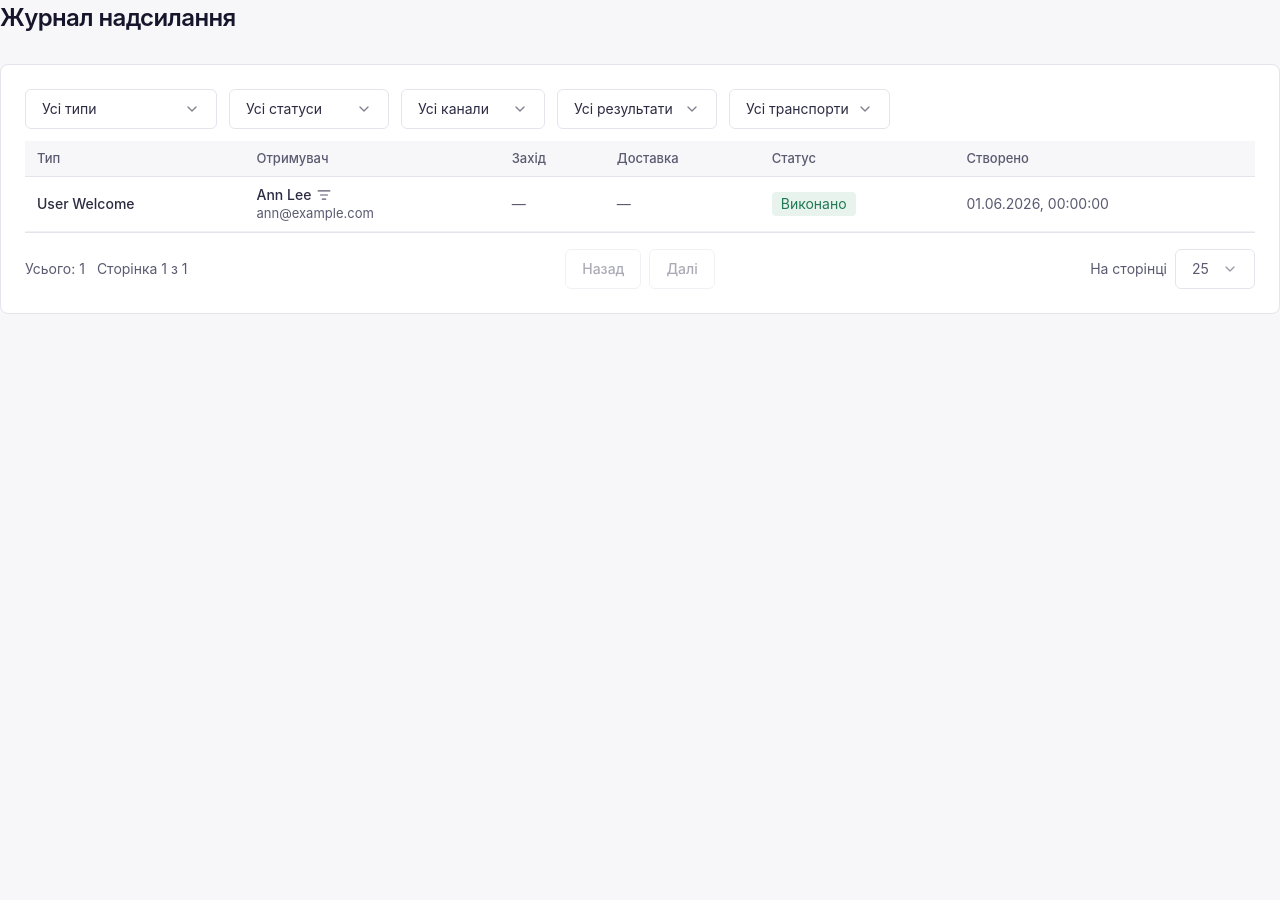
it: LogsTab recipient and error lines › humanizes the raw gomail 530 error from the backend (smtp_auth / 530)
This screenshot has width=1280, height=900.
Click the text "Ann Lee": (640, 204) [25, 176, 1255, 231]
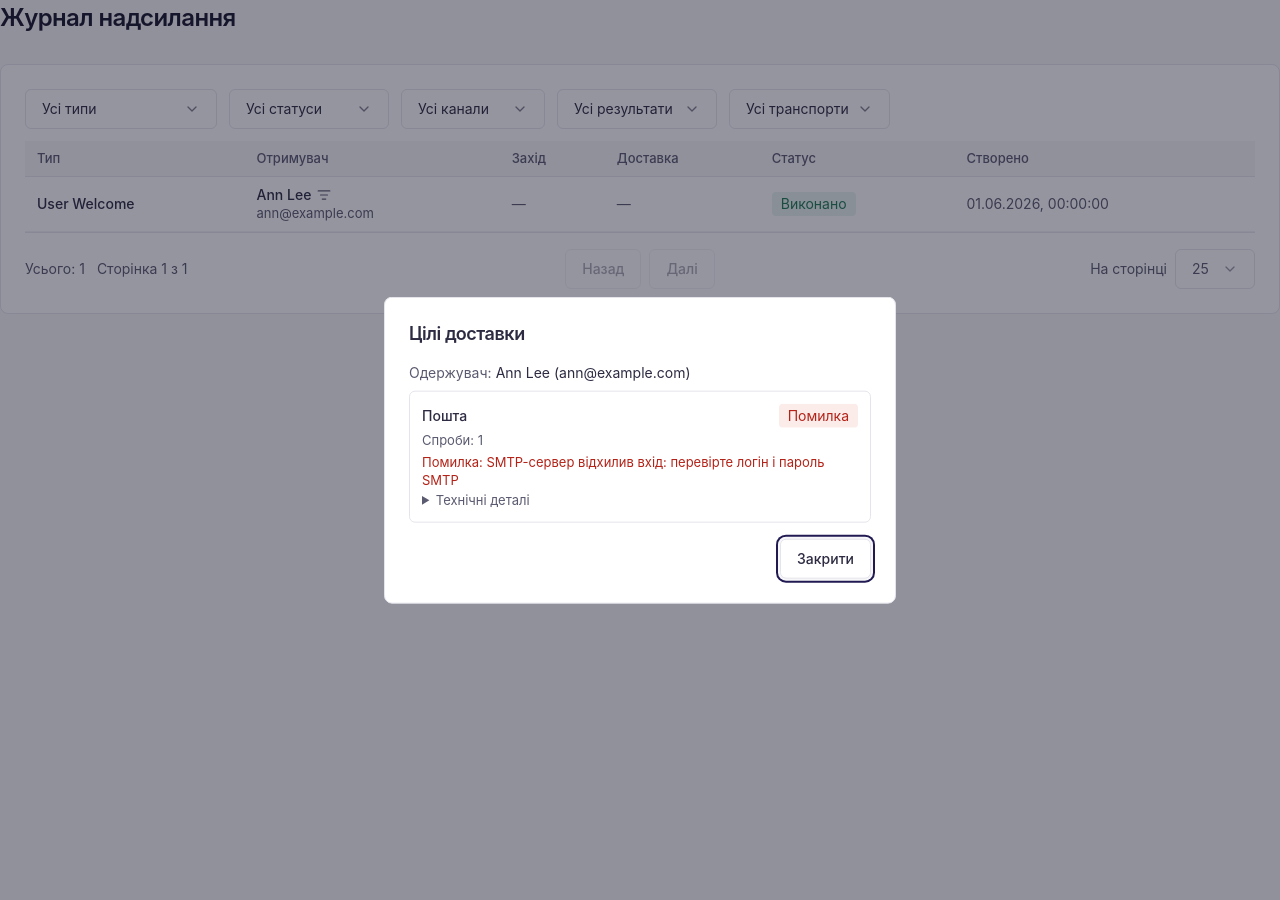
Check: the text "SMTP-сервер відхилив вхід: перевірте логін і пароль SMTP" is shown, box [422, 453, 824, 487]
Check: the heading "Технічні деталі" is shown, box [436, 491, 530, 507]
